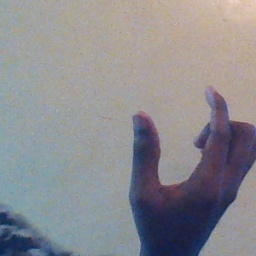U: (122, 82, 256, 252)
